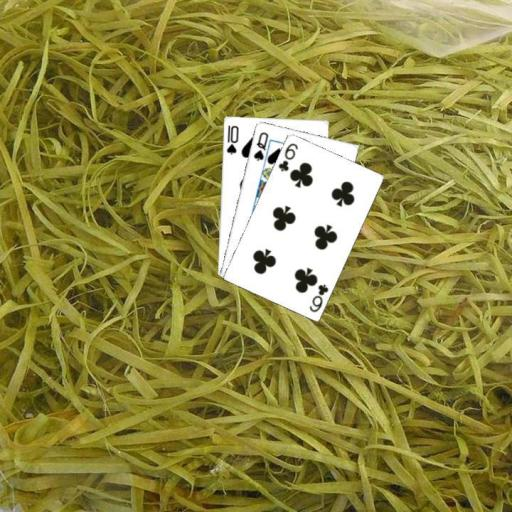10S: (223, 122, 240, 156)
6C: (276, 139, 300, 173), (306, 281, 330, 313)
QS: (251, 129, 270, 162)
